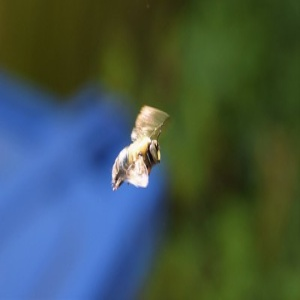bee: (110, 103, 170, 202)
